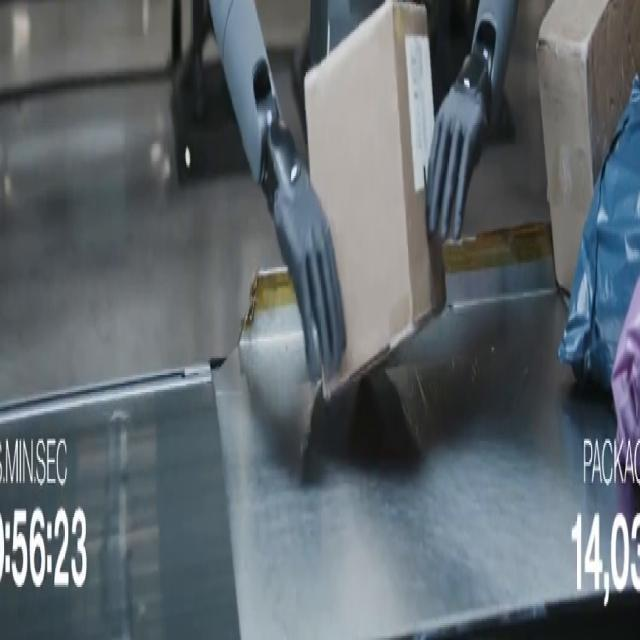package: (305, 0, 445, 396), (537, 0, 639, 290), (559, 77, 639, 389), (612, 280, 639, 525)
